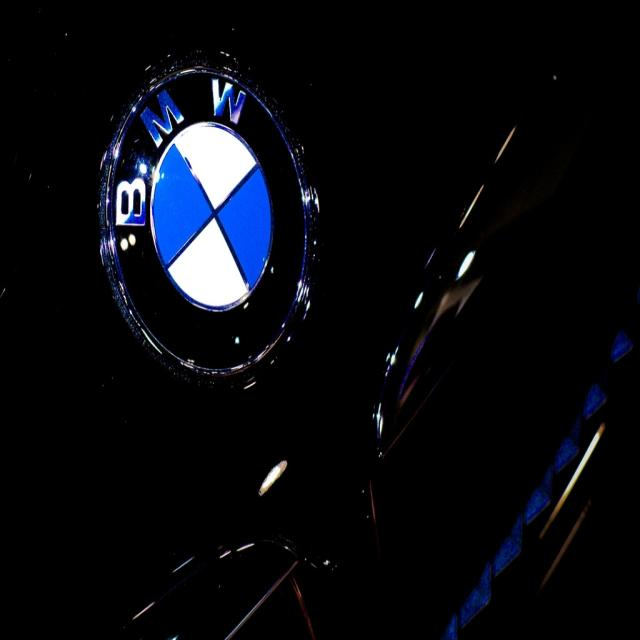bmw: (97, 61, 316, 388)
